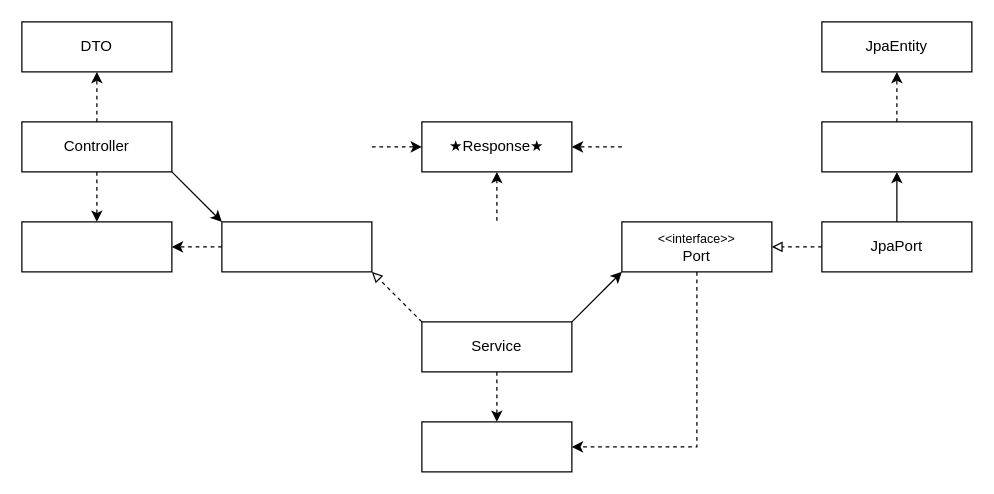
The diagram is 994 pixels wide and 494 high, and some of its shapes have lost their labels. Each missing label, with the centre of its shape:
<<interface>> UseCase: pixel 296 246
Command: pixel 96 246
Domain: pixel 496 446
JpaRepository: pixel 896 146
